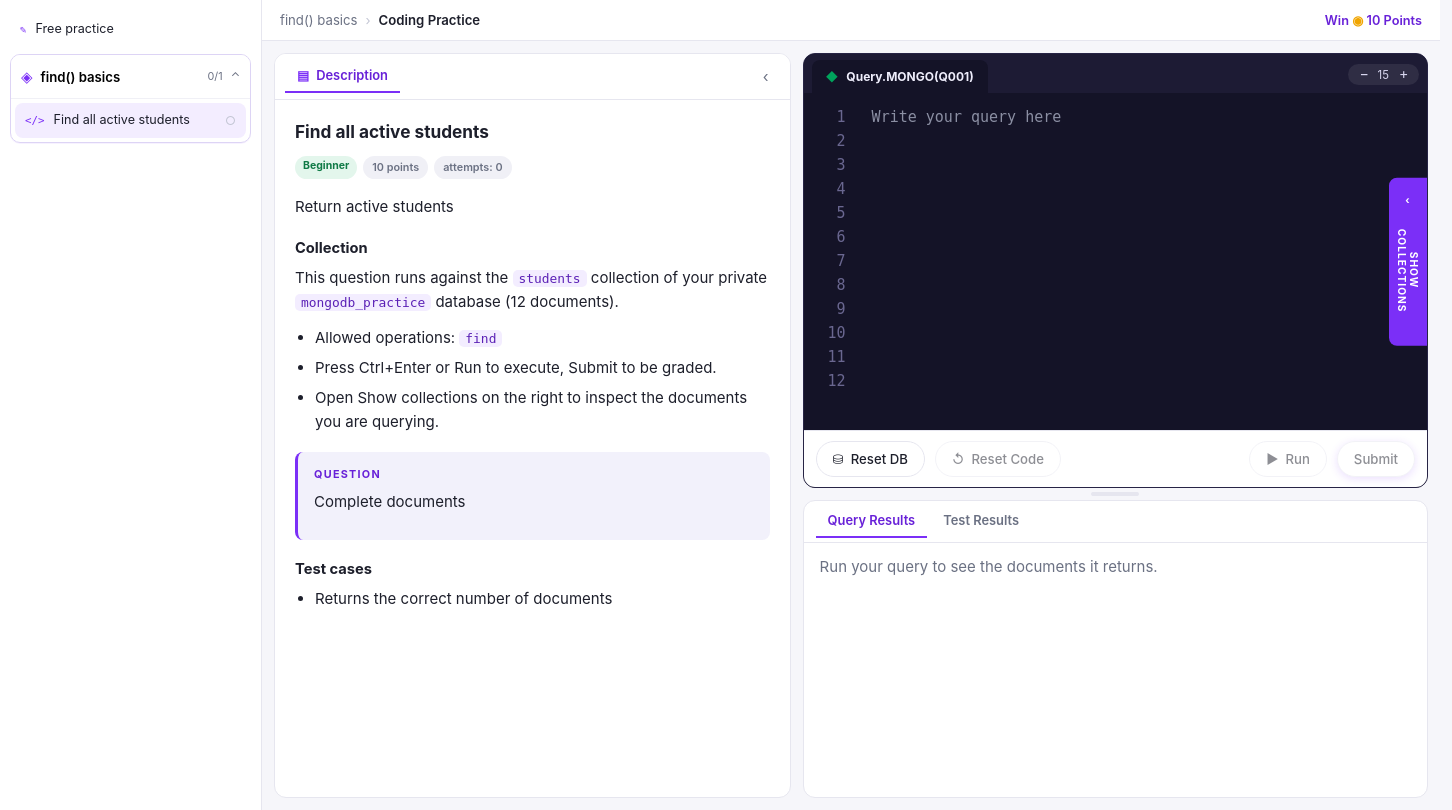
Test: Coding practice IDE › shows the collections of the question in MongoDB document format
Click the button "‹ SHOW COLLECTIONS": (1408, 262) [1389,177,1427,346]
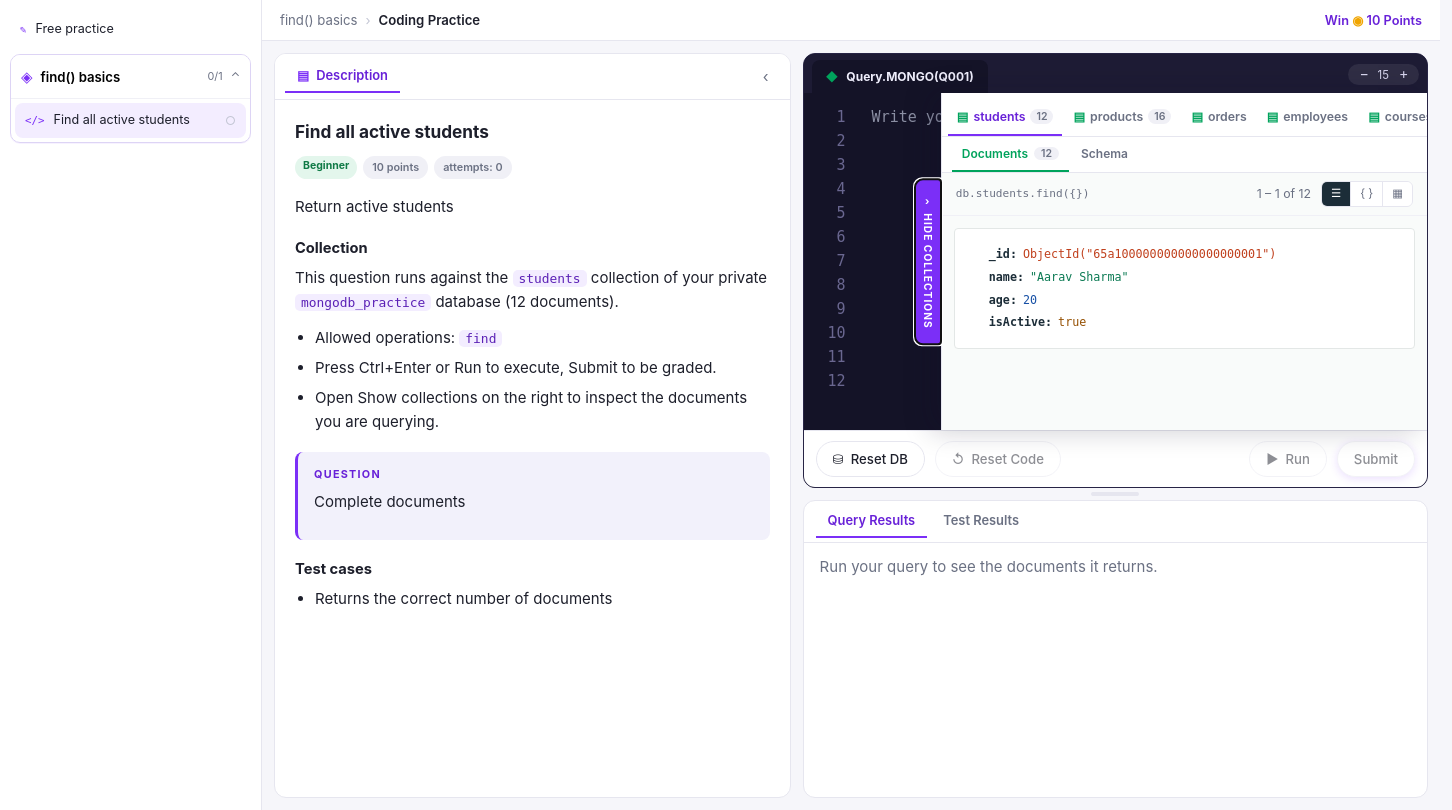
Expected: the text "ObjectId(\"65a100000000000000000001\")" is shown, [1023,243,1276,266]
Expected: the text "\"Aarav Sharma\"" is shown, [1030,266,1128,289]
Atlas' other two view modes render the same documents.
Click the button named "Table view": (1398, 194) [1383,182,1412,206]
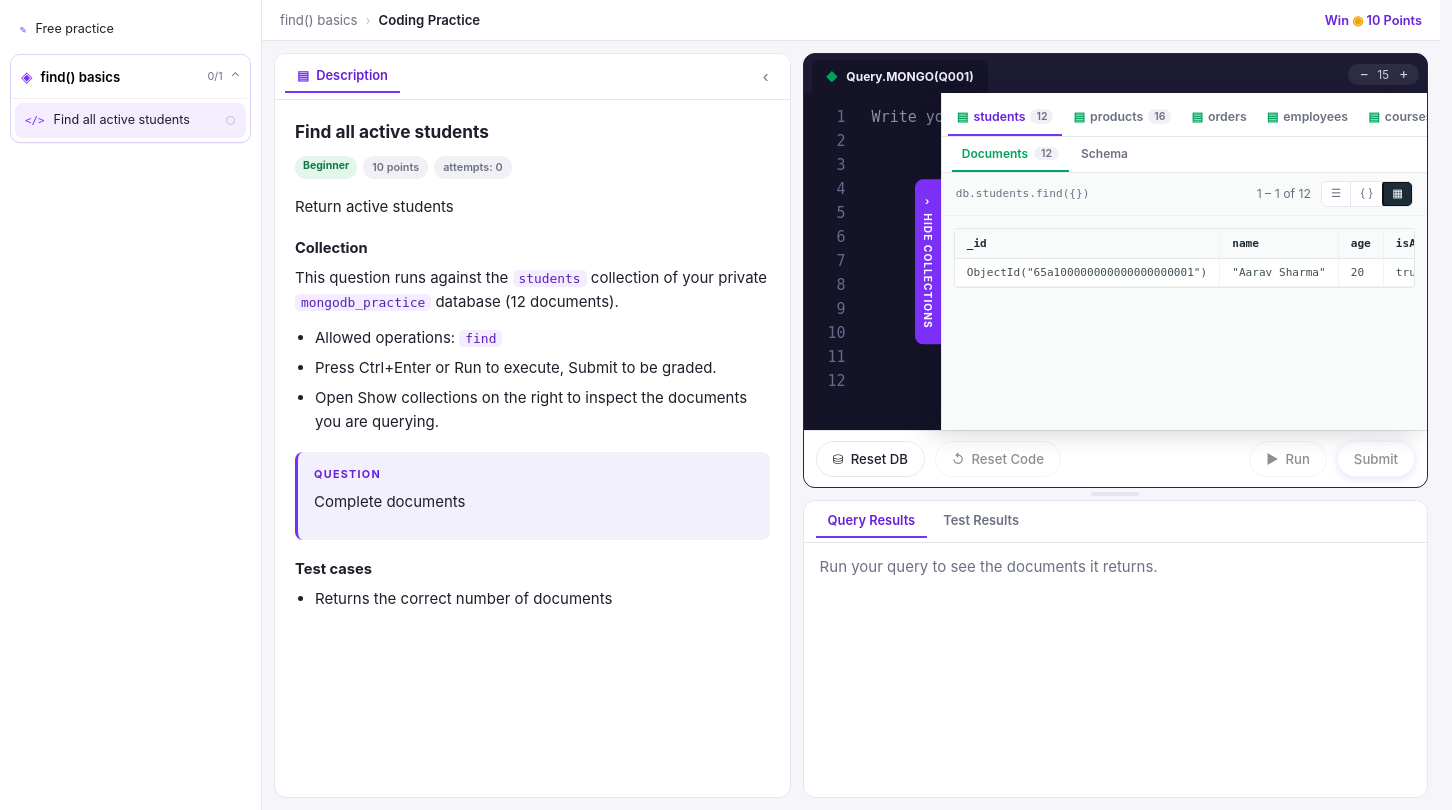
Click the button named "JSON view": (1367, 194) [1351,182,1383,206]
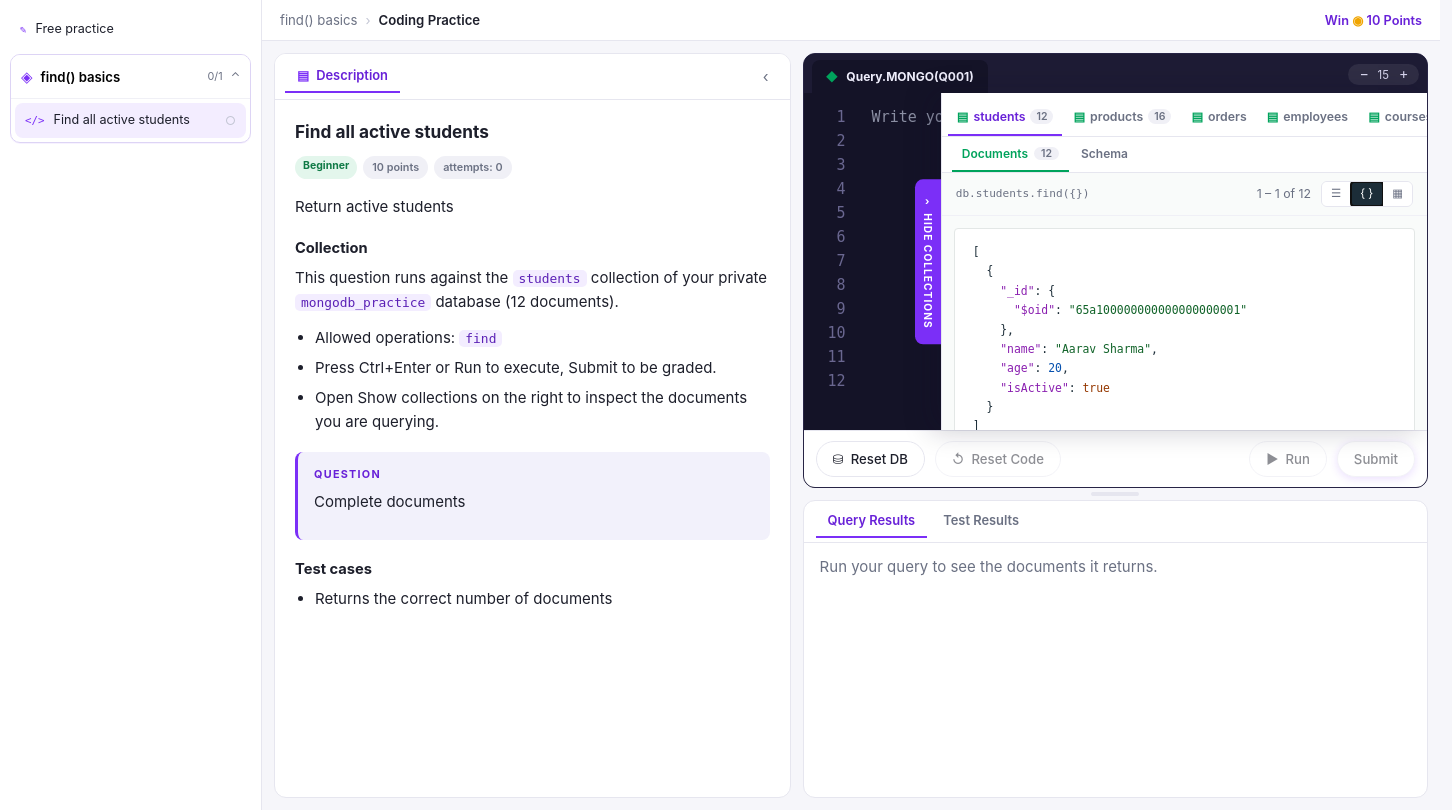
Expected: the element with test id "mongo-json" shows "\"$oid\"", [1014,303,1055,317]
Click the tab "Schema": (1104, 154) [1071,137,1138,172]
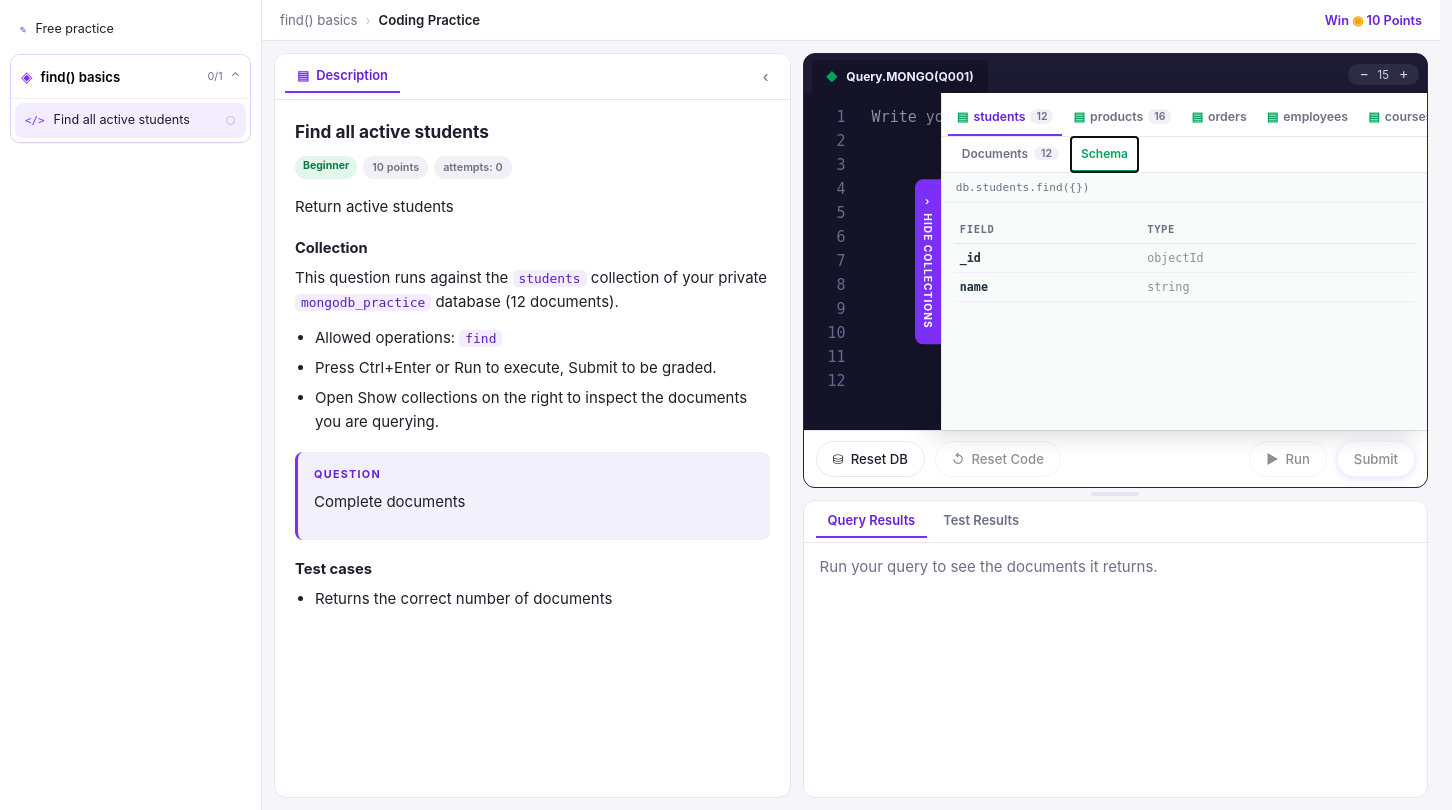
Expected: the row "name string" is shown, [954,272,1415,302]
